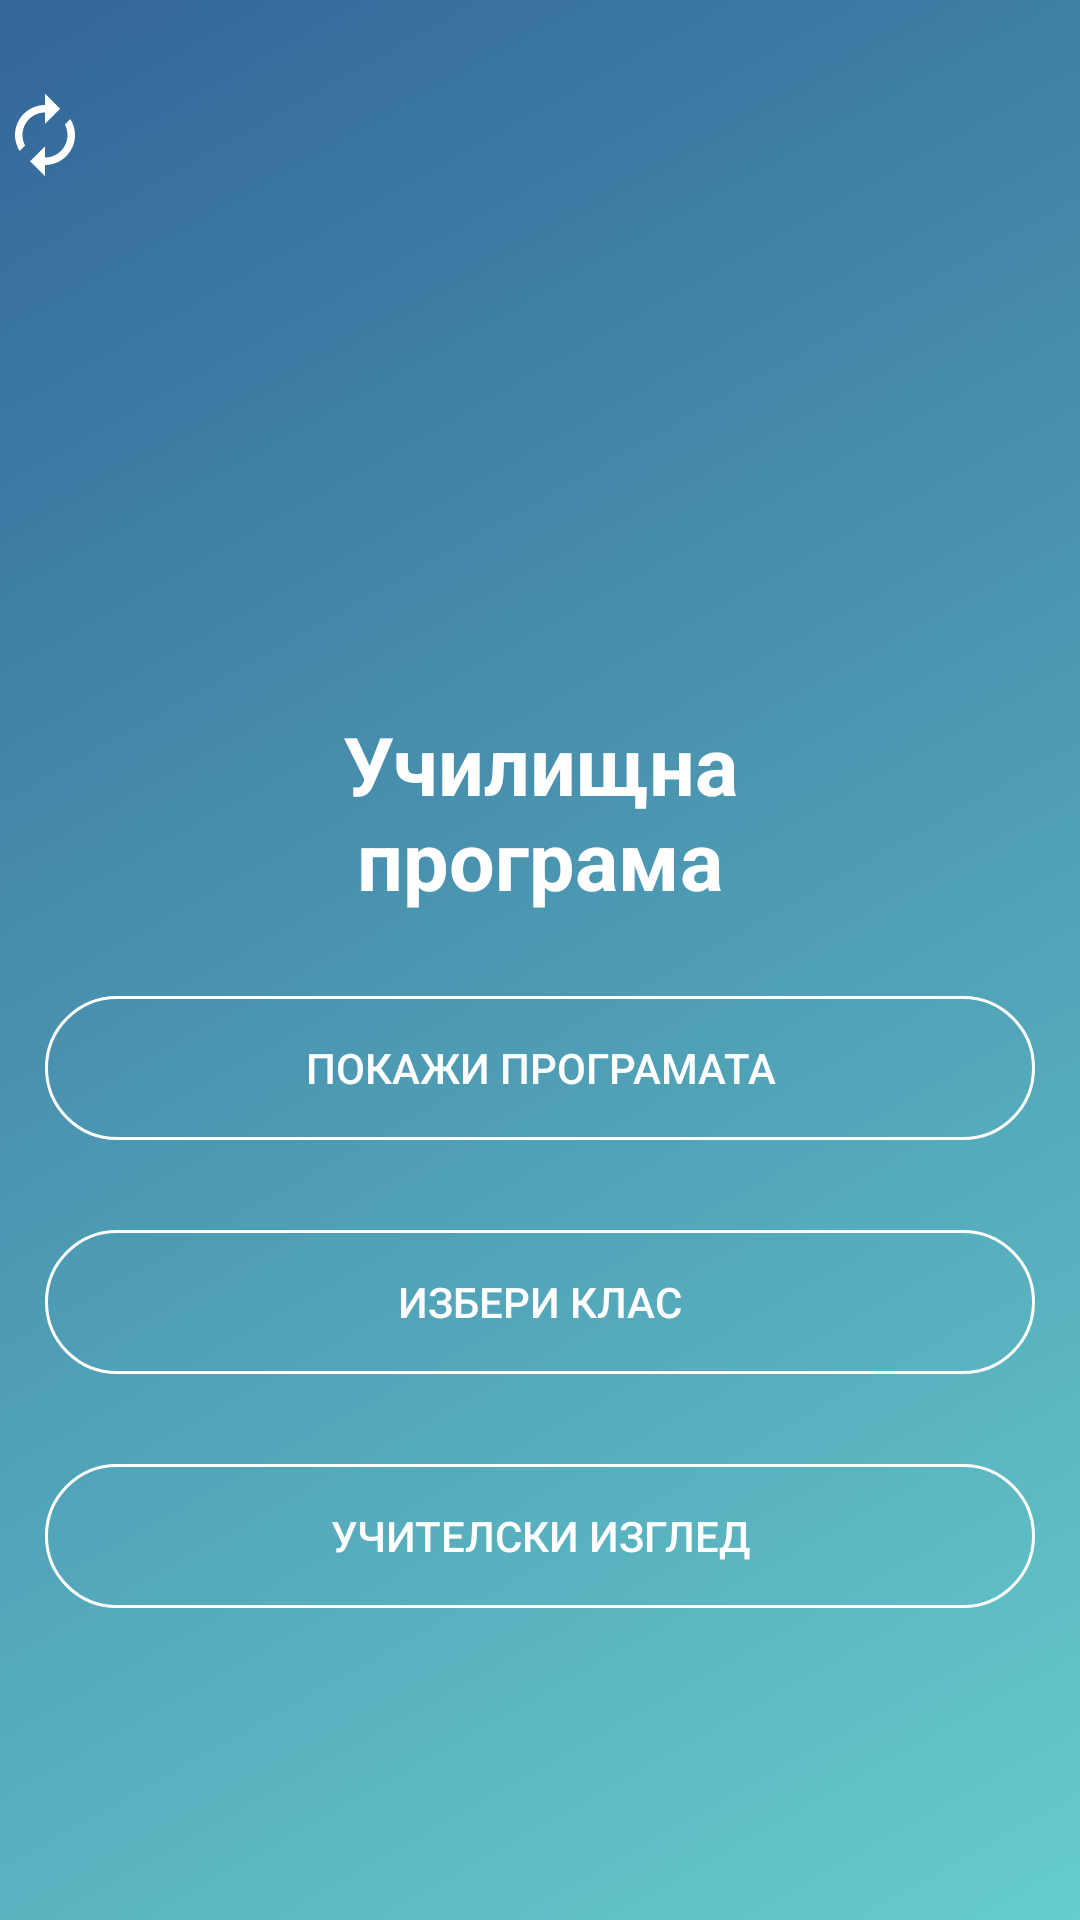

Icons on this 1080x1920 Android screen, each with the point to tap as [x,y]:
autorenew: [45,135]
